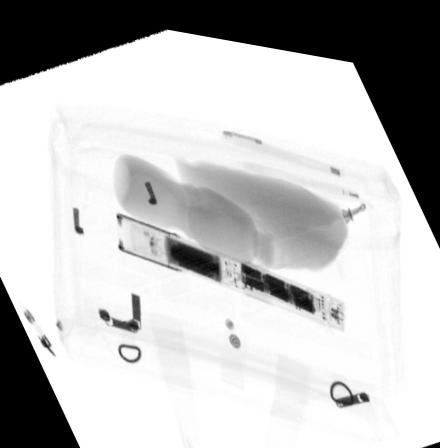Baton: (115, 206, 348, 323)
